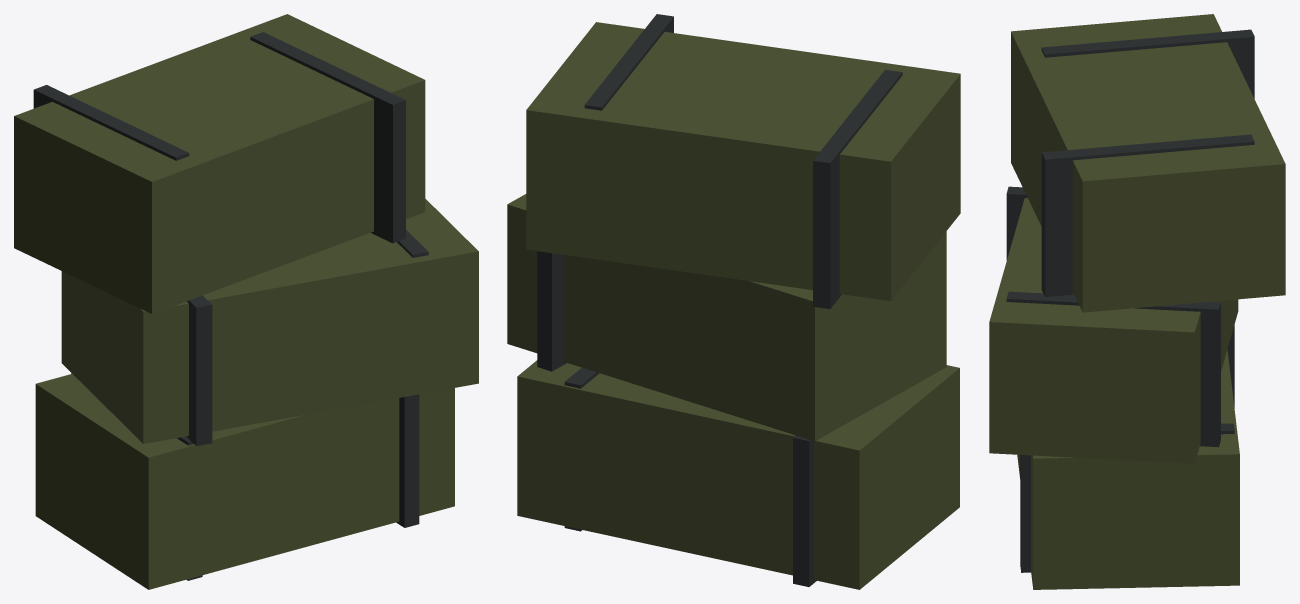
Rendered from ammo_crate_stack.glb.
3 renders of one model, left to right at view 1: azimuth 30°, elevation 25°; view 2: azimuth 150°, elevation 25°; view 3: azimuth 270°, elevation 25°, orthographic. The views are drawn at different scales.
Visible parts, largest first — view 1: AmmoCrateStack; view 2: AmmoCrateStack; view 3: AmmoCrateStack.
Part boxes in pixels (x1,y1,x2,y2): AmmoCrateStack: (14, 14, 478, 589); AmmoCrateStack: (507, 14, 960, 589); AmmoCrateStack: (989, 14, 1285, 589).
Bounding box in the file's own units: 1.24 × 1.32 × 0.859.
